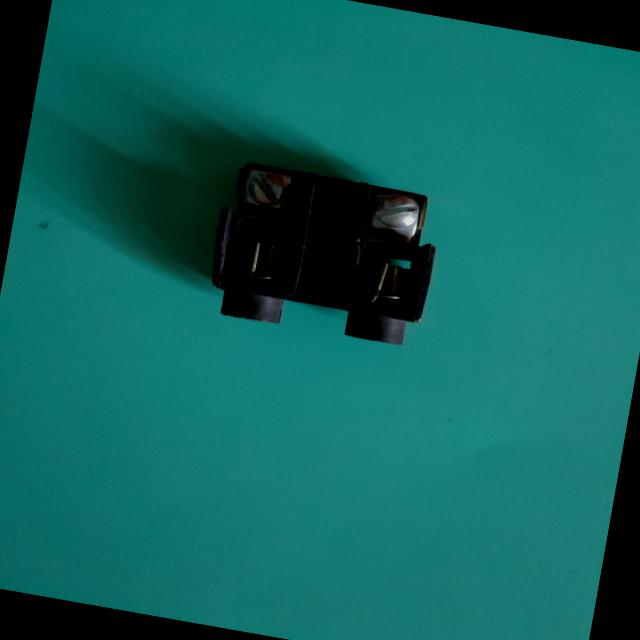Slotted: (372, 190, 422, 231), (244, 168, 292, 210)
